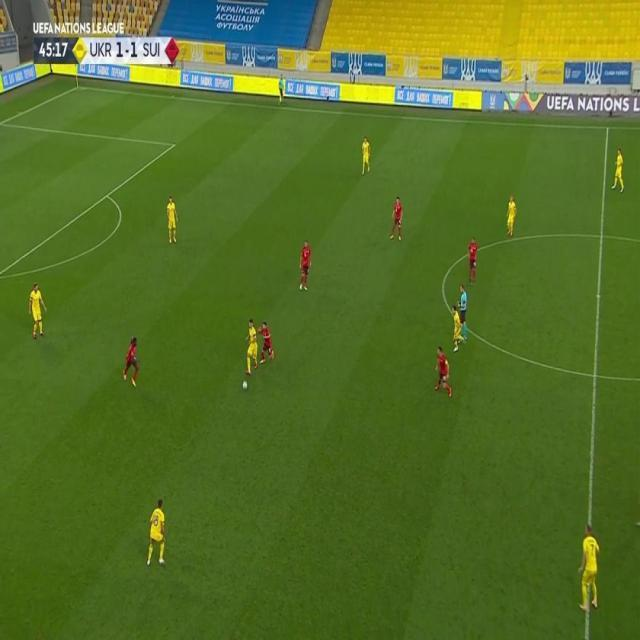ball: (241, 380, 248, 391)
player: (577, 525, 599, 615), (146, 497, 168, 568), (27, 282, 48, 339), (433, 345, 453, 403), (122, 336, 141, 388), (245, 319, 259, 377), (258, 320, 275, 366), (388, 196, 403, 244), (611, 148, 626, 193), (451, 305, 464, 355), (167, 195, 179, 247), (467, 237, 479, 287), (505, 195, 518, 239), (360, 136, 371, 177)
referee: (458, 287, 468, 342), (278, 73, 286, 107)
